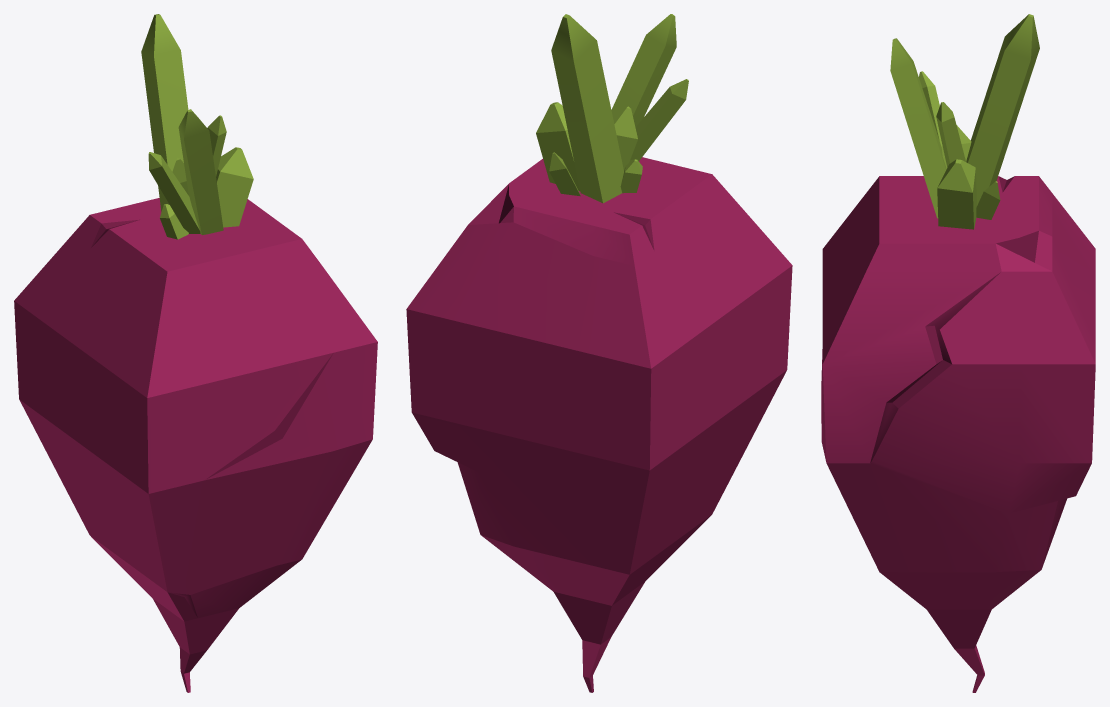
Rendered from Mesh_CropEarth_Stage3.fbx.
3 renders of one model, left to right at view 1: azimuth 30°, elevation 25°; view 2: azimuth 150°, elevation 25°; view 3: azimuth 270°, elevation 25°, orthographic. The views are drawn at different scales.
Visible parts, largest first — view 1: earthplant_stage3; view 2: earthplant_stage3; view 3: earthplant_stage3.
Part boxes in pixels (box(x1,y1,x2,y2)): earthplant_stage3: box(14, 14, 377, 692); earthplant_stage3: box(406, 14, 792, 692); earthplant_stage3: box(821, 14, 1095, 692).
Size of the model in its own units: 8.64 by 8.69 by 23.58.
